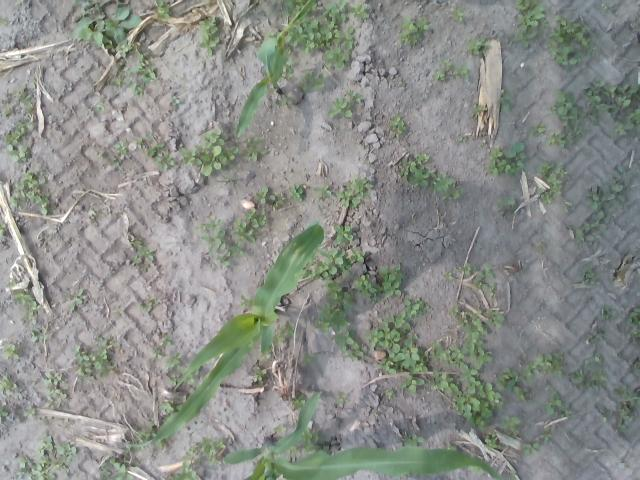Maize: (128, 224, 324, 448), (225, 389, 508, 480), (235, 0, 318, 138)
Weeds: (580, 77, 640, 144), (454, 360, 506, 432), (69, 0, 143, 48), (543, 14, 598, 71), (104, 43, 158, 98), (181, 127, 239, 177), (583, 166, 634, 212), (280, 0, 321, 55), (546, 90, 584, 149), (314, 279, 355, 332), (508, 0, 548, 50), (378, 335, 428, 374), (316, 0, 354, 51), (73, 336, 119, 378), (11, 168, 52, 214), (364, 310, 411, 350), (298, 246, 351, 281), (133, 132, 176, 170), (568, 210, 611, 245), (611, 382, 640, 432), (568, 353, 607, 390), (522, 350, 566, 382), (5, 114, 34, 162), (534, 161, 566, 204), (485, 141, 525, 175), (494, 368, 530, 404), (163, 352, 200, 387), (459, 330, 492, 369), (98, 448, 138, 480), (230, 208, 266, 243), (337, 174, 372, 209), (182, 438, 225, 466), (450, 305, 488, 336), (428, 170, 464, 202), (398, 153, 429, 190), (126, 234, 156, 272), (15, 454, 56, 480), (332, 328, 364, 361), (132, 423, 166, 454), (542, 384, 572, 418), (432, 341, 468, 369), (196, 15, 220, 56), (42, 371, 68, 408), (396, 16, 429, 45), (298, 427, 331, 456), (13, 289, 42, 322), (378, 262, 404, 298), (352, 273, 382, 304), (52, 441, 76, 477), (429, 370, 462, 396), (98, 139, 128, 167), (254, 185, 285, 210), (11, 82, 37, 108), (474, 263, 495, 295), (322, 46, 350, 70), (166, 461, 201, 480), (200, 229, 226, 254), (242, 134, 266, 161), (327, 96, 353, 120), (403, 296, 429, 317), (625, 306, 640, 342), (272, 322, 295, 345), (298, 70, 324, 90), (66, 287, 86, 312), (159, 400, 185, 419), (500, 414, 522, 436), (332, 222, 354, 244), (32, 434, 54, 456), (496, 88, 516, 112), (389, 113, 408, 138), (398, 374, 424, 392), (150, 335, 170, 358), (466, 38, 490, 57), (195, 216, 222, 232), (484, 429, 504, 450), (486, 308, 504, 331), (578, 266, 598, 286), (0, 374, 18, 396), (1, 340, 20, 360), (348, 3, 370, 20), (138, 296, 160, 313), (288, 183, 306, 203), (526, 121, 547, 138), (154, 0, 171, 20), (279, 57, 293, 80), (30, 326, 50, 342), (314, 184, 331, 202), (350, 245, 366, 264), (522, 440, 540, 456), (587, 328, 605, 344), (452, 64, 470, 80), (252, 365, 268, 383), (466, 462, 486, 476), (404, 433, 424, 447), (214, 250, 230, 267), (450, 6, 465, 24), (258, 344, 273, 362), (228, 242, 244, 258), (346, 88, 364, 102), (275, 94, 294, 107), (238, 294, 255, 308), (0, 404, 10, 426), (292, 392, 304, 410), (497, 197, 516, 208), (599, 405, 612, 421), (302, 350, 316, 364), (632, 352, 640, 376), (600, 2, 616, 14), (432, 68, 445, 82), (468, 104, 482, 117), (287, 446, 302, 458), (600, 304, 611, 320), (2, 99, 12, 116), (561, 199, 573, 213), (224, 175, 239, 185), (335, 392, 347, 404), (24, 406, 36, 418), (538, 432, 552, 442), (440, 58, 454, 68), (617, 463, 632, 472), (262, 31, 276, 40), (272, 424, 286, 433), (458, 263, 469, 274), (95, 103, 106, 114), (170, 96, 180, 108), (88, 209, 102, 217), (445, 442, 457, 451), (444, 270, 454, 280), (385, 388, 395, 398), (0, 222, 7, 236), (6, 278, 16, 286), (536, 242, 547, 248), (0, 17, 7, 24), (397, 76, 403, 84), (478, 140, 484, 146), (16, 0, 25, 4), (458, 135, 463, 142), (411, 217, 417, 222)
